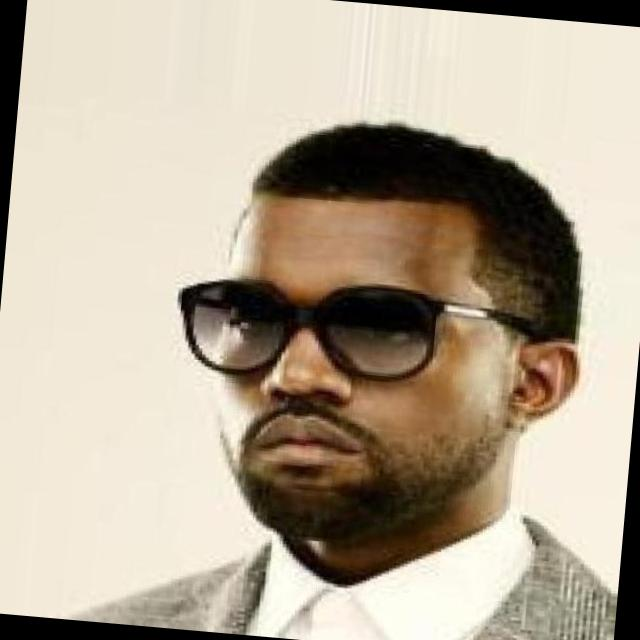bareface: (193, 162, 548, 543)
